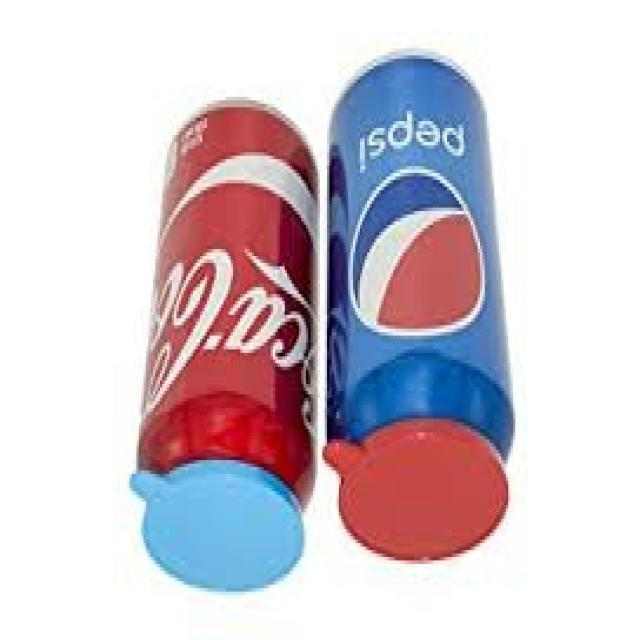can: (327, 56, 513, 470), (141, 104, 320, 533)
